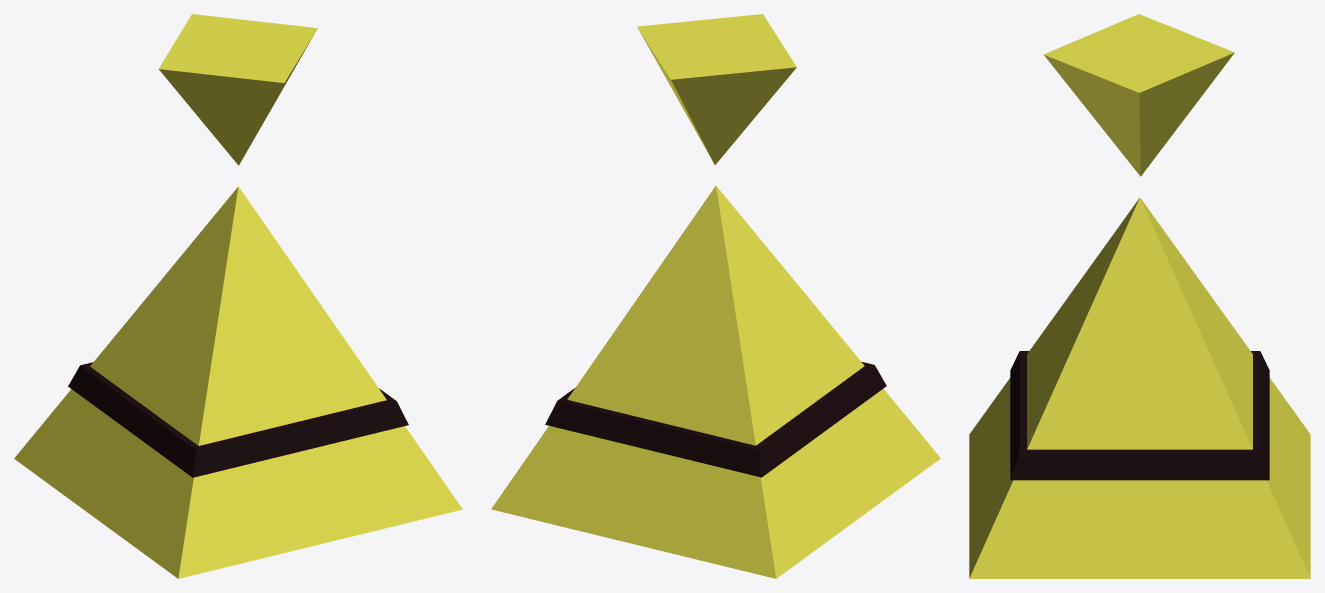
File: PyramidXP.glb
The picture shows the model from 3 angles, left to right: view 1: azimuth 30°, elevation 25°; view 2: azimuth 150°, elevation 25°; view 3: azimuth 270°, elevation 25°; orthographic projection. The views are drawn at different scales.
Visible parts, largest first — view 1: Cube.001, Cube; view 2: Cube.001, Cube; view 3: Cube.001, Cube.
Part boxes in pixels (<box>): Cube.001: <box>14,14,462,578</box>; Cube: <box>68,362,408,477</box>; Cube.001: <box>491,14,940,578</box>; Cube: <box>545,361,886,477</box>; Cube.001: <box>969,14,1310,578</box>; Cube: <box>1010,351,1269,480</box>.
Size of the model in its own units: 0.4998 by 0.7329 by 0.4998.
